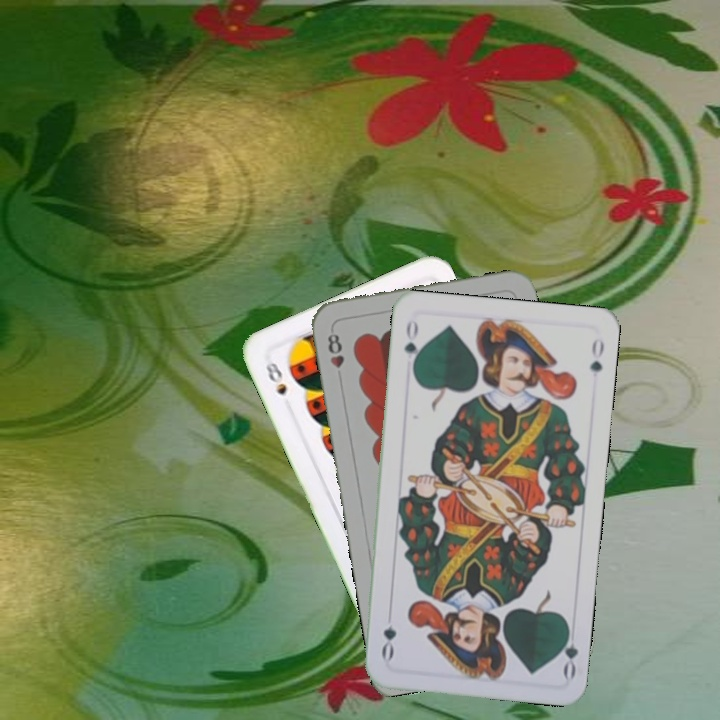GO: (554, 621, 581, 680), (400, 315, 423, 375)
H8: (323, 330, 347, 371)
S8: (260, 355, 289, 398)
